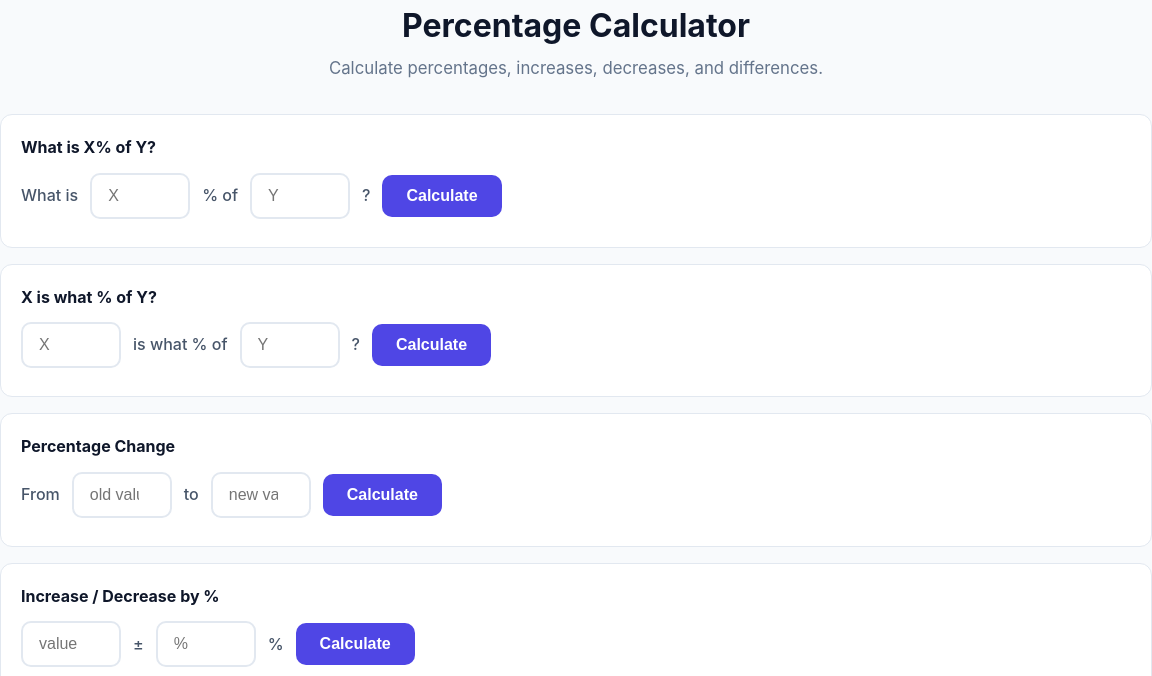
Test case: PercentageCalculator › calculates percentage change
This screenshot has width=1152, height=676.
Step 1. Type "100" into the number field with placeholder "old value" → (122,495), box [72,472,172,518]
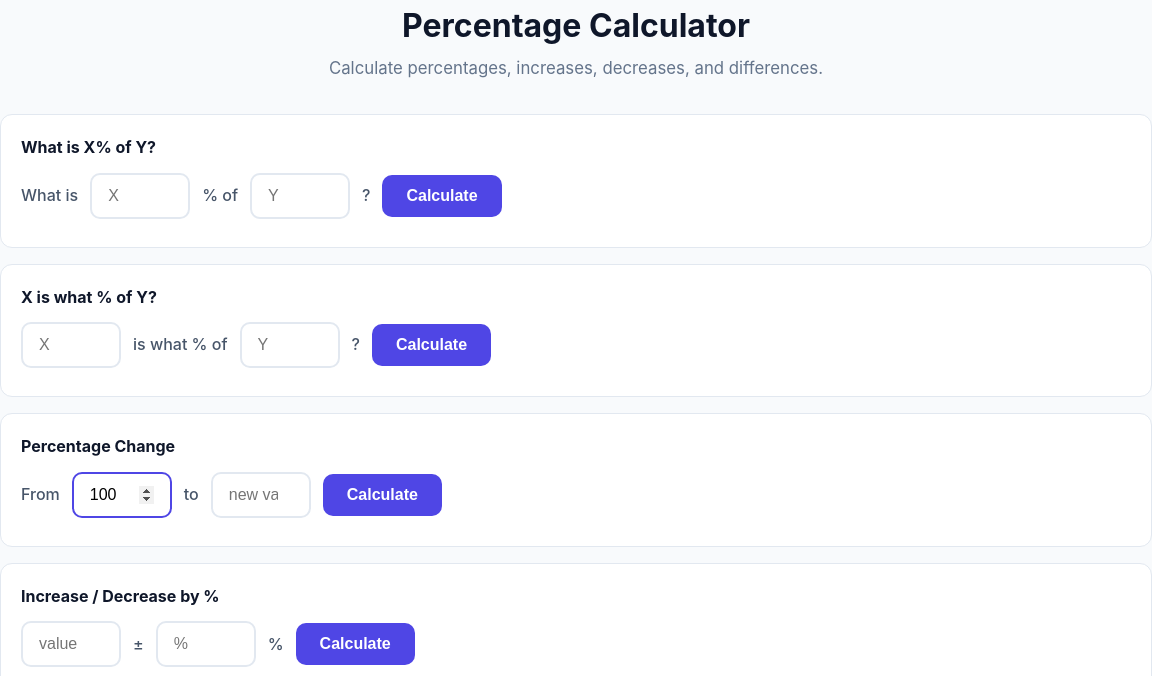
Step 2. Type "150" into the number field with placeholder "new value" → (261,495), box [211,472,311,518]
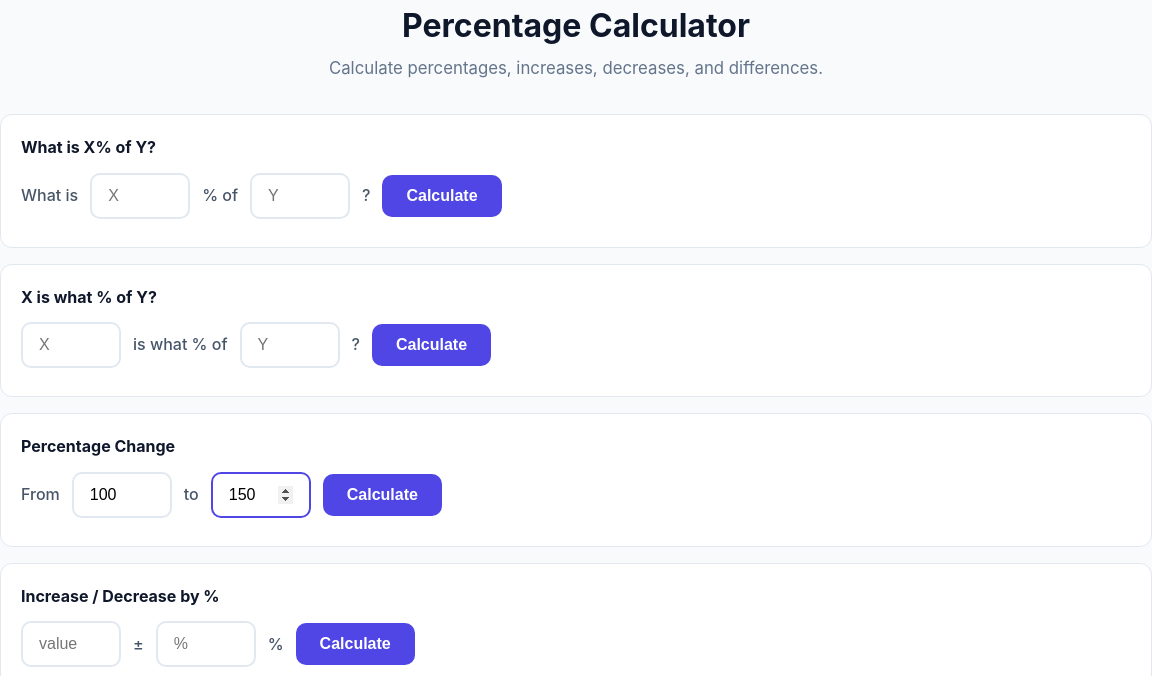
Step 3. Click the 3rd button "Calculate" → (382,495), box [323,474,442,516]
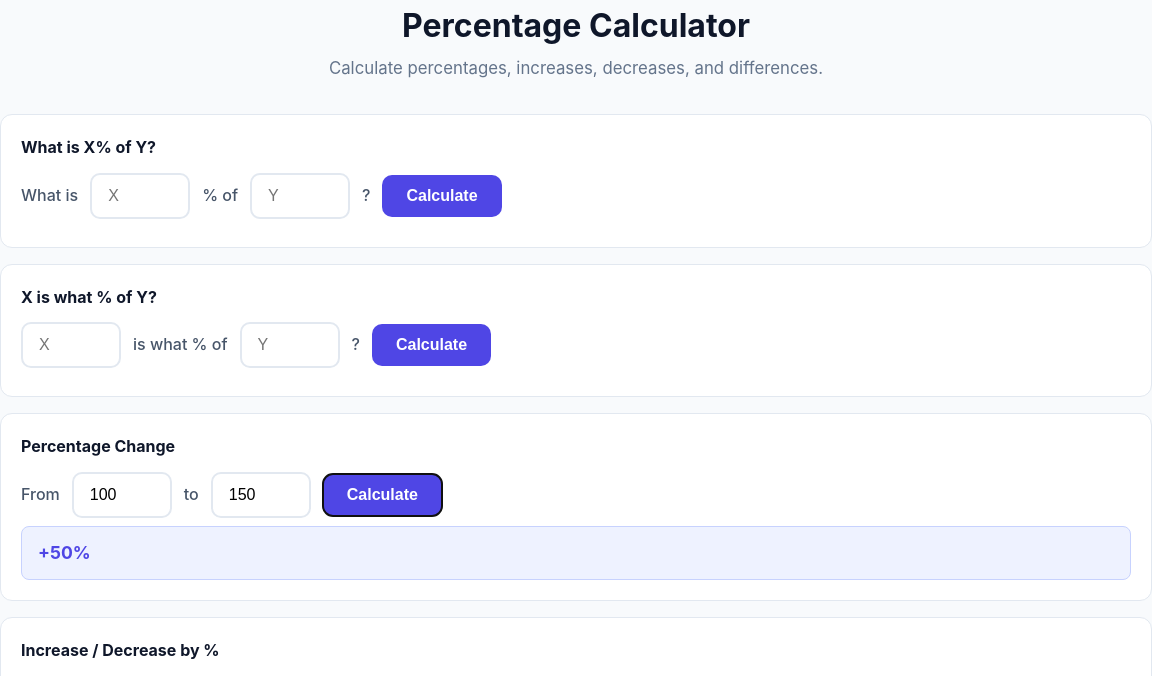
Expected: the text "+50%" is shown, [21,526,1131,580]
